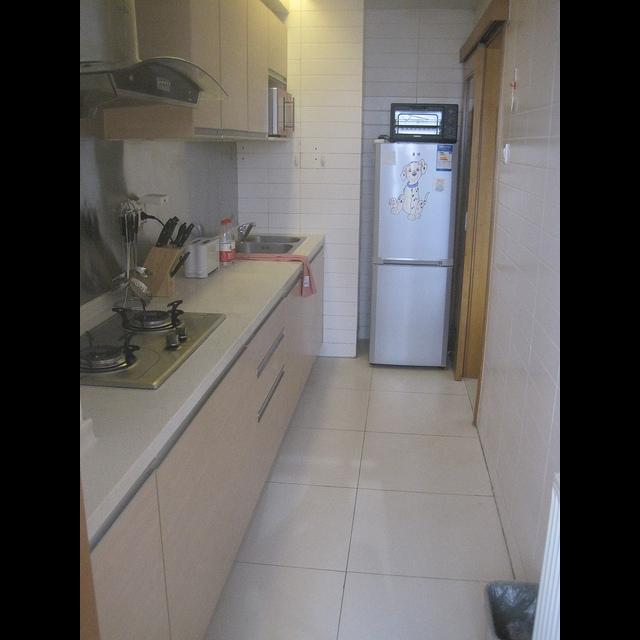Microwave: (390, 103, 459, 143), (268, 73, 294, 139)
Refrigerator: (365, 137, 461, 366)
